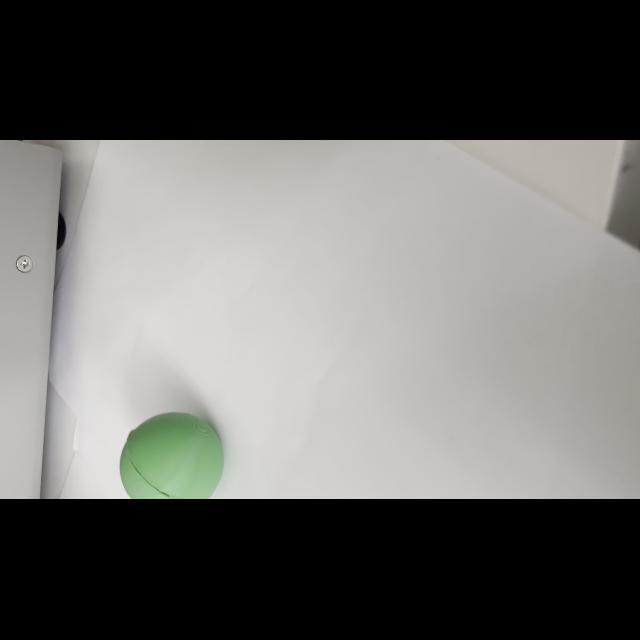objects: (117, 408, 225, 499)
